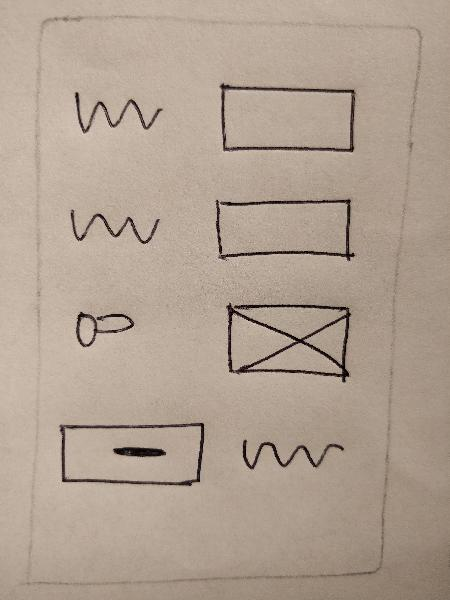button: (52, 415, 209, 494)
image: (212, 292, 363, 381)
switch: (70, 300, 143, 357)
text: (236, 430, 354, 486), (65, 86, 169, 143), (64, 199, 165, 253)
text_input: (211, 78, 363, 168), (212, 188, 357, 270)
